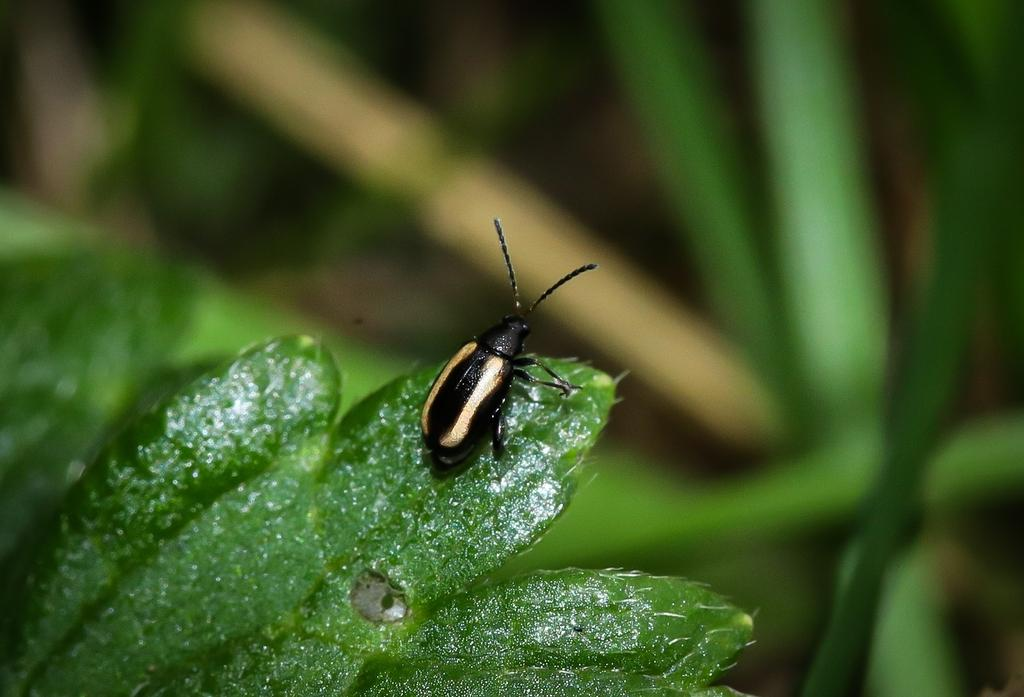flea_beetle: (383, 204, 613, 495)
